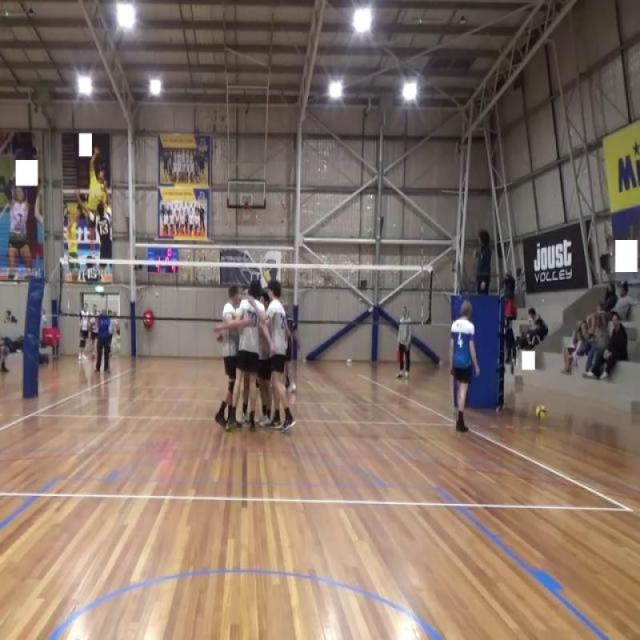volleyball: (534, 404, 548, 421)
